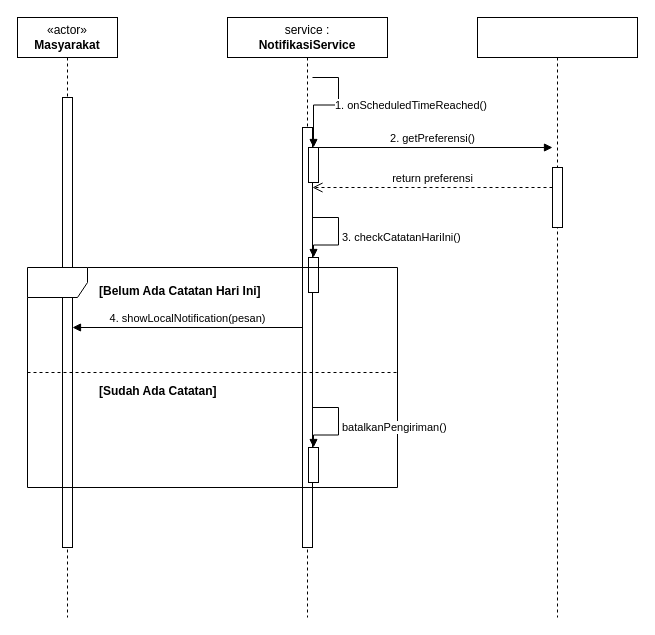
The diagram is 655 pixels wide and 635 high, and some of its shapes have lost their labels. The box of each missing label's shape, as (x1, y1, x2, y2) in pixels:
Alt: (26, 266, 398, 488)
model : PreferensiNotifikasi: (476, 16, 638, 618)
